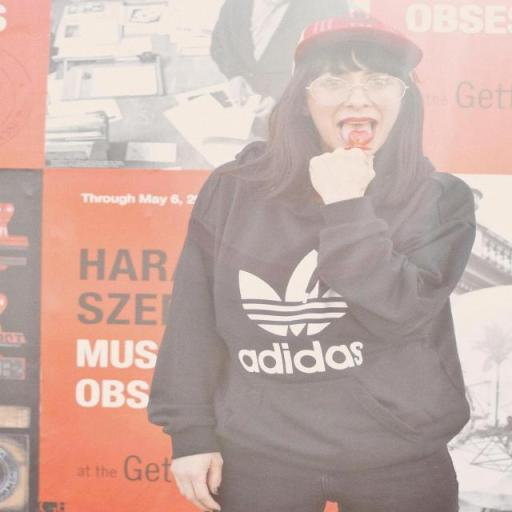Adidas: (234, 248, 364, 378)
